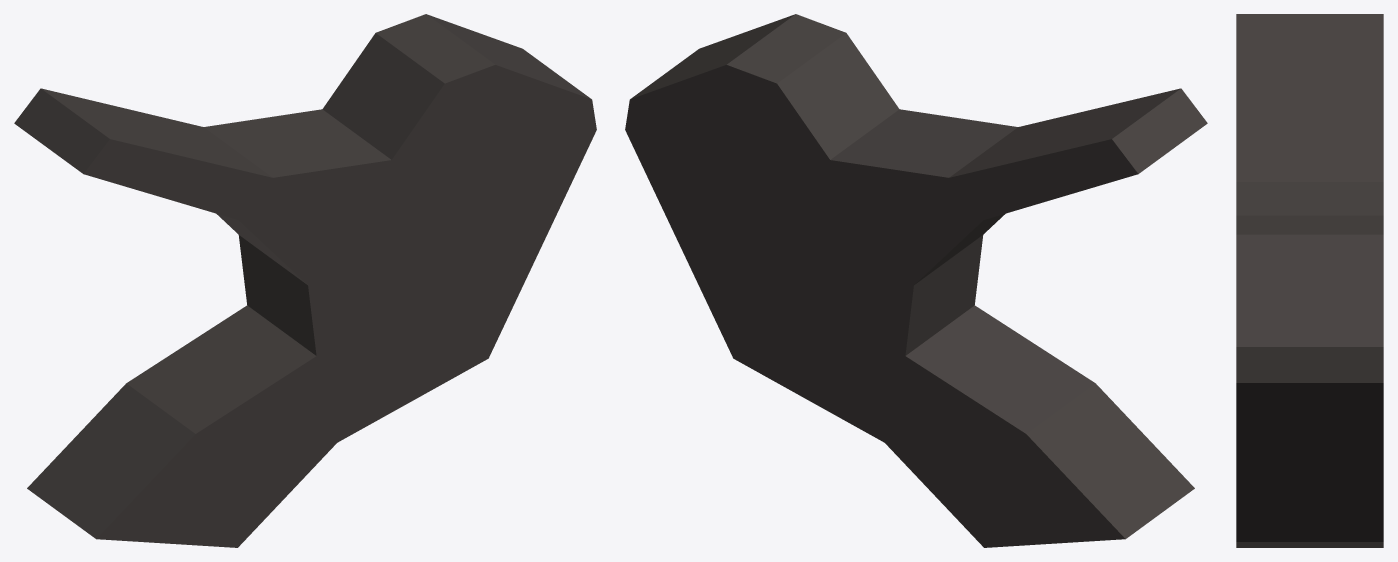
The model's file is Pistol5_06_4.fbx.
The picture shows the model from 3 angles, left to right: view 1: azimuth 30°, elevation 25°; view 2: azimuth 150°, elevation 25°; view 3: azimuth 270°, elevation 25°; orthographic projection. The views are drawn at different scales.
Parts seen in each view (by area): view 1: Pistol5_06_4; view 2: Pistol5_06_4; view 3: Pistol5_06_4.
Boxes of the visible parts, box(x1,y1,x2,y2) form: Pistol5_06_4: box(14, 14, 596, 547); Pistol5_06_4: box(625, 14, 1207, 547); Pistol5_06_4: box(1236, 14, 1383, 547).
Size of the model in its own units: 0.0403 by 0.033 by 0.00942.
